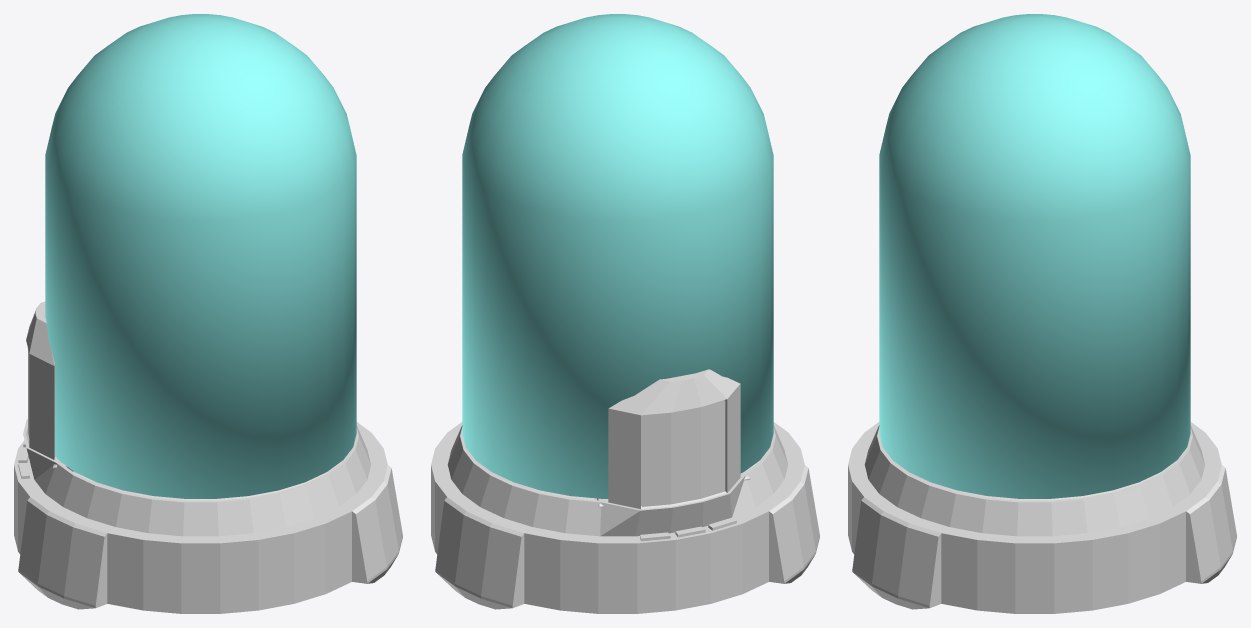
The picture shows the model from 3 angles, left to right: view 1: azimuth 30°, elevation 25°; view 2: azimuth 150°, elevation 25°; view 3: azimuth 270°, elevation 25°; orthographic projection.
Parts seen in each view (by area): view 1: GlassCover002, MetalBase002; view 2: GlassCover002, MetalBase002, CapsuleScreen001; view 3: GlassCover002, MetalBase002.
Boxes of the visible parts, x1=… form: GlassCover002: x1=45, y1=14, x2=356, y2=498; MetalBase002: x1=14, y1=301, x2=402, y2=613; GlassCover002: x1=462, y1=14, x2=773, y2=498; MetalBase002: x1=431, y1=369, x2=819, y2=613; CapsuleScreen001: x1=642, y1=400, x2=725, y2=506; GlassCover002: x1=879, y1=14, x2=1190, y2=498; MetalBase002: x1=848, y1=422, x2=1236, y2=613.
Size of the model in its own units: 49.92 by 73.55 by 50.13.
